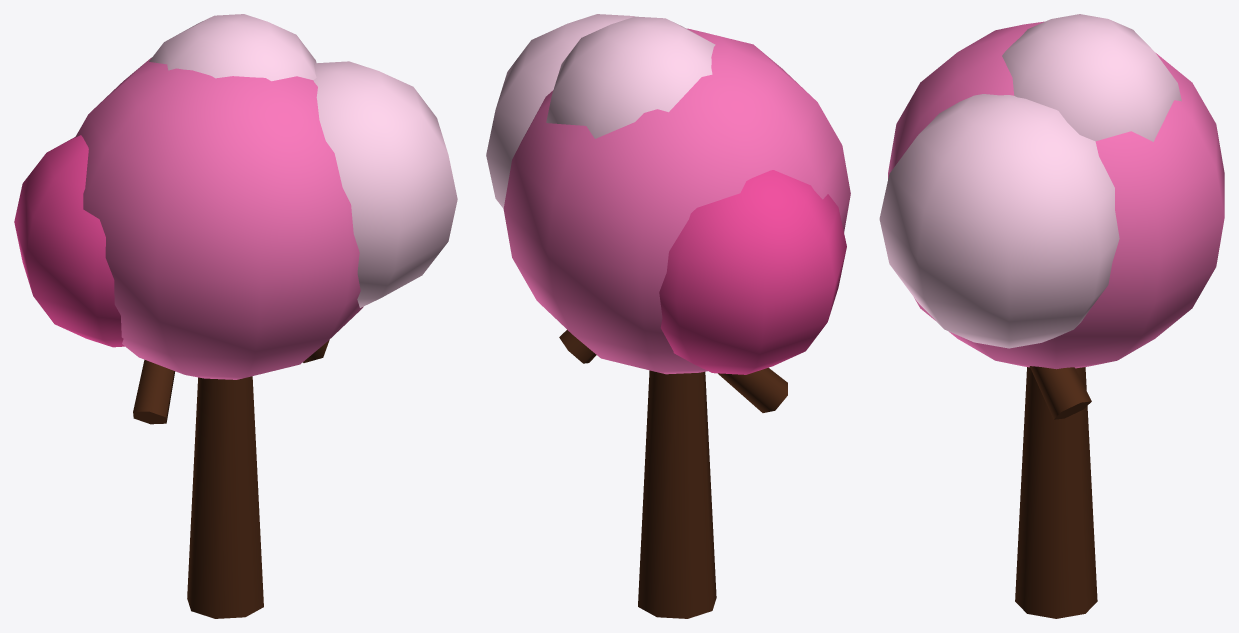
The model's file is sakura_tree.glb.
3 renders of one model, left to right at view 1: azimuth 30°, elevation 25°; view 2: azimuth 150°, elevation 25°; view 3: azimuth 270°, elevation 25°, orthographic. The views are drawn at different scales.
Visible parts, largest first — view 1: SakuraTree; view 2: SakuraTree; view 3: SakuraTree.
Boxes of the visible parts, x1=… form: SakuraTree: x1=14, y1=14, x2=457, y2=618; SakuraTree: x1=486, y1=14, x2=850, y2=618; SakuraTree: x1=879, y1=14, x2=1224, y2=618.
Bounding box in the file's own units: 3.8 × 5.5 × 2.93.
